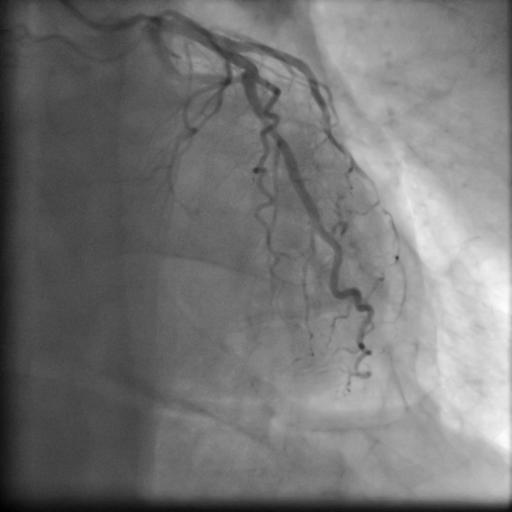Stenosis: (243, 60, 263, 88)
